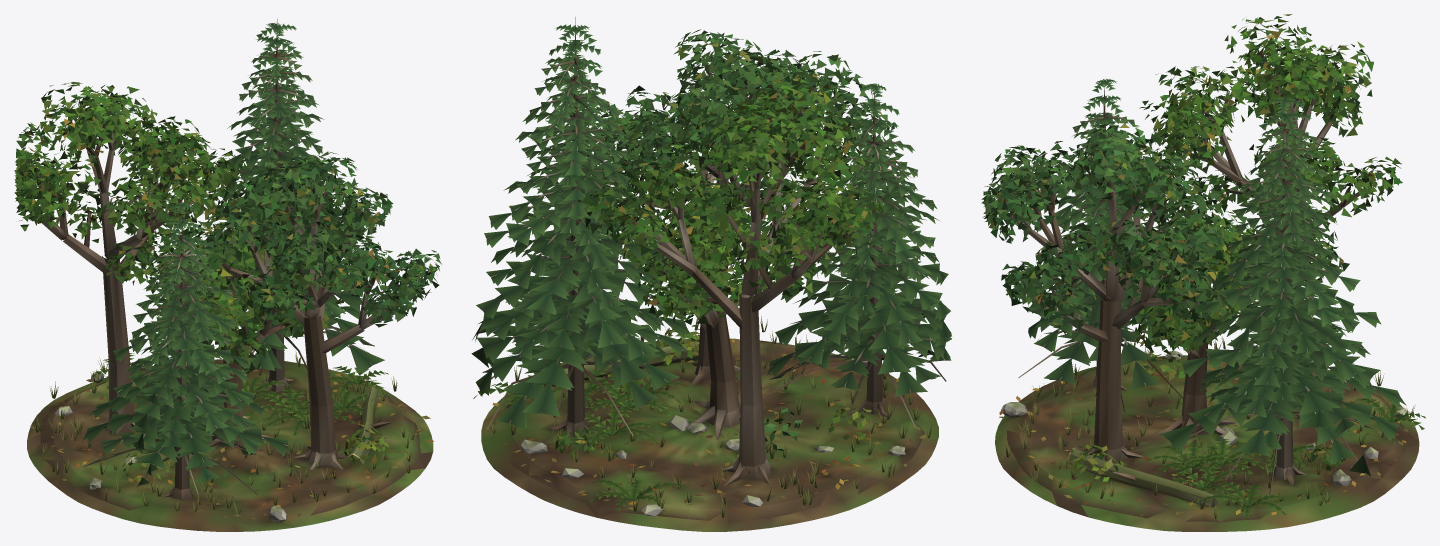
File: woods.glb
3 renders of one model, left to right at view 1: azimuth 30°, elevation 25°; view 2: azimuth 150°, elevation 25°; view 3: azimuth 270°, elevation 25°, orthographic. The views are drawn at different scales.
Visible parts, largest first — view 1: woods; view 2: woods; view 3: woods.
Boxes of the visible parts, x1,y1,x2,y2 form: woods: (14,19,441,531); woods: (471,17,951,531); woods: (981,14,1425,531).
Bounding box in the file's own units: 0.9562 × 0.9778 × 0.9859.
